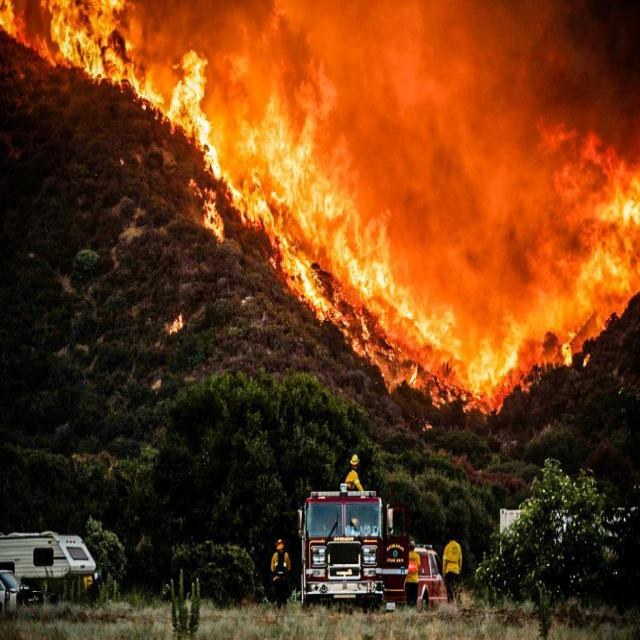Fire: (1, 4, 638, 379), (200, 196, 225, 241), (169, 308, 184, 338)
